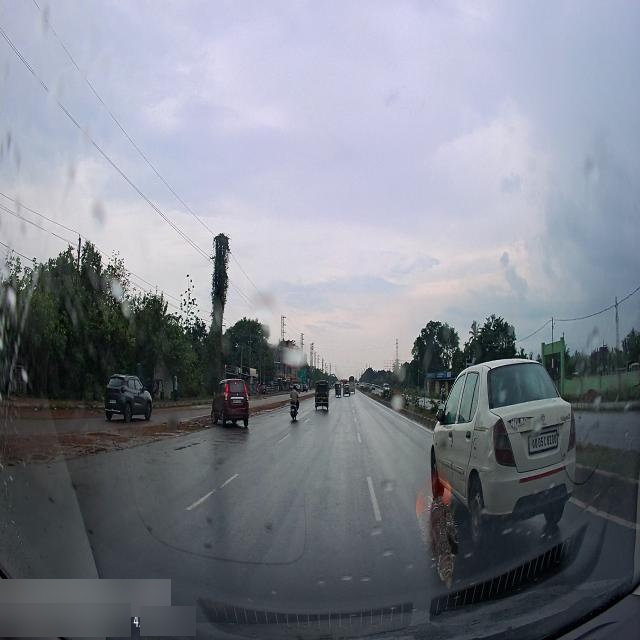pothole: (90, 424, 128, 452), (22, 446, 52, 470)
